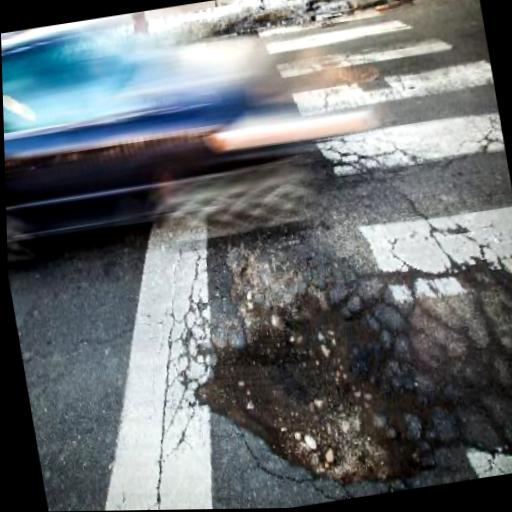pothole: (187, 277, 436, 509)
